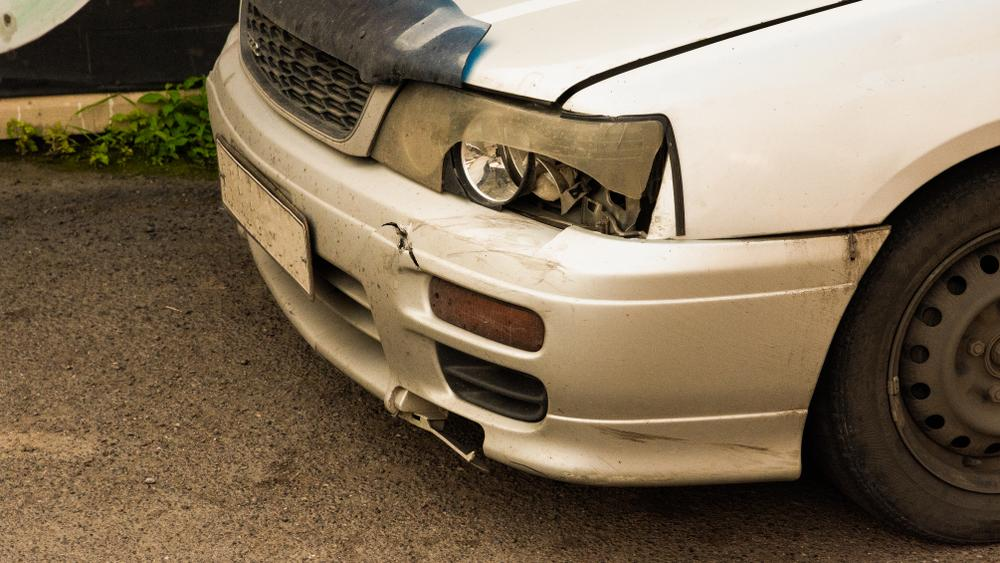crack: (380, 220, 423, 271)
lamp broken: (374, 84, 672, 240)
scratch: (595, 421, 799, 460)
